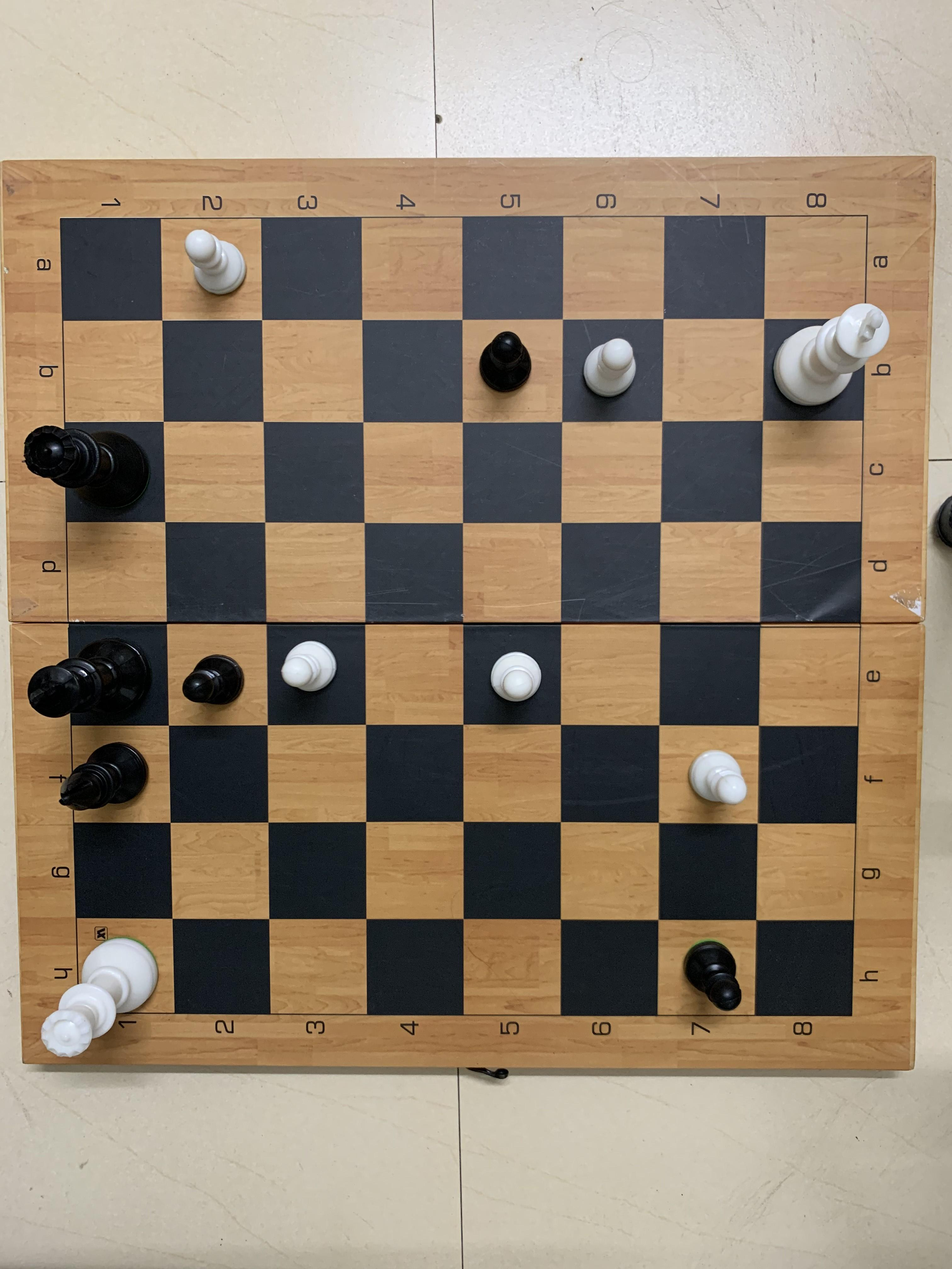black_bishop: (41, 730, 164, 822)
black_king: (14, 625, 166, 727)
black_pawn: (469, 317, 567, 425), (658, 915, 759, 1018), (178, 625, 264, 723)
black_queen: (14, 413, 158, 526)
white_king: (768, 296, 897, 417)
white_pawn: (165, 214, 258, 313), (671, 735, 761, 824), (274, 617, 349, 716), (564, 329, 648, 414), (466, 633, 548, 717)
white_queen: (28, 921, 161, 1060)
